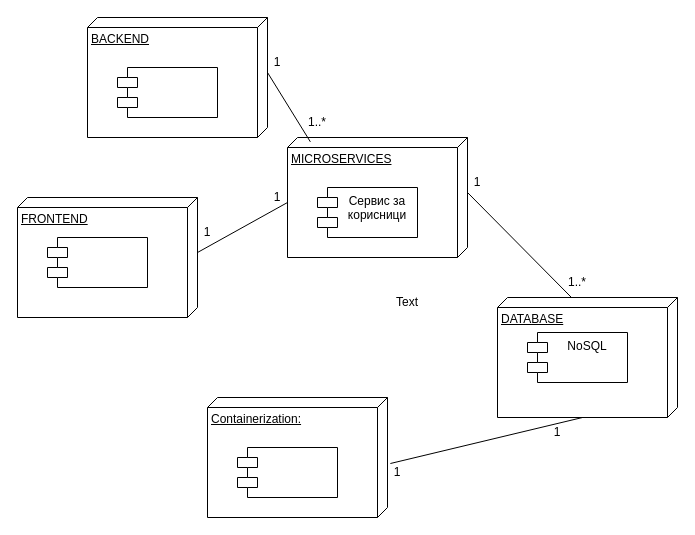
Some shapes in this 695 by 535 pixel diagram are drawn without their labels. The shapes that lost their labels are listed below. From the top down, each one's centre as x and y in pixels, then its label:
At pixel 167 92: "Modules".
At pixel 97 262: "HTML CSS JAVASCRIPT".
At pixel 287 472: "DOCKER".
